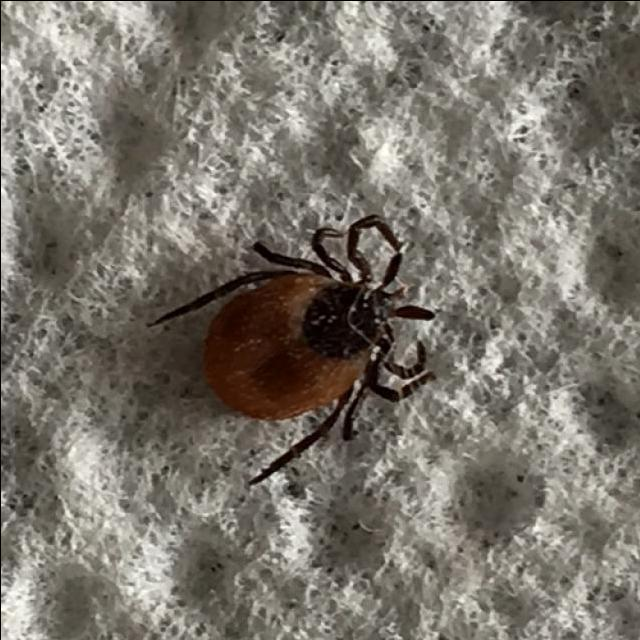Ixodes Ricinus-F-Fed: (146, 212, 434, 485)
